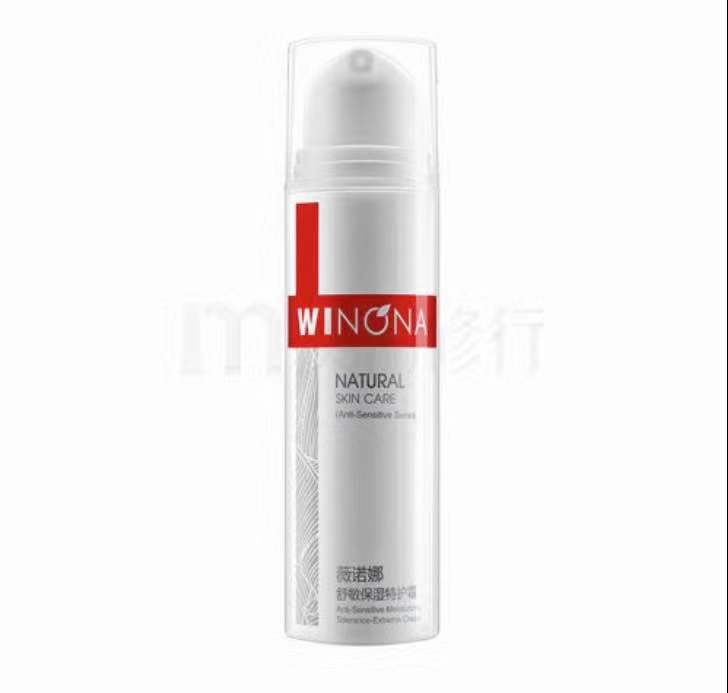cosmetic: (284, 34, 440, 648)
